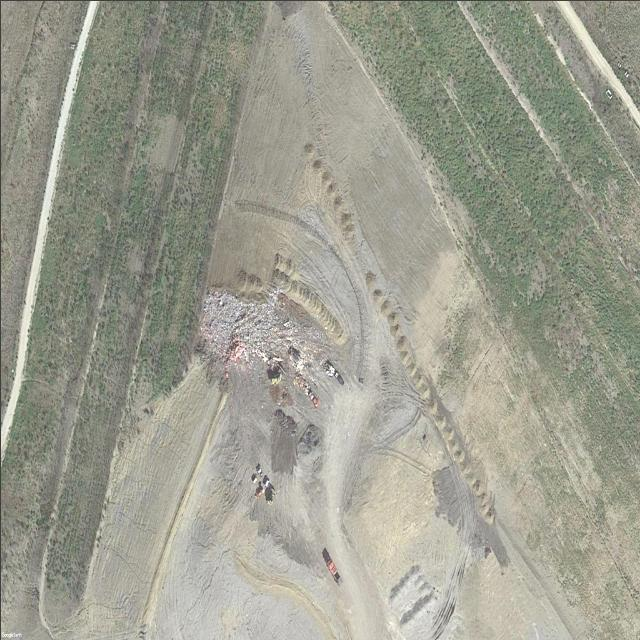dump_site: (200, 285, 326, 383)
